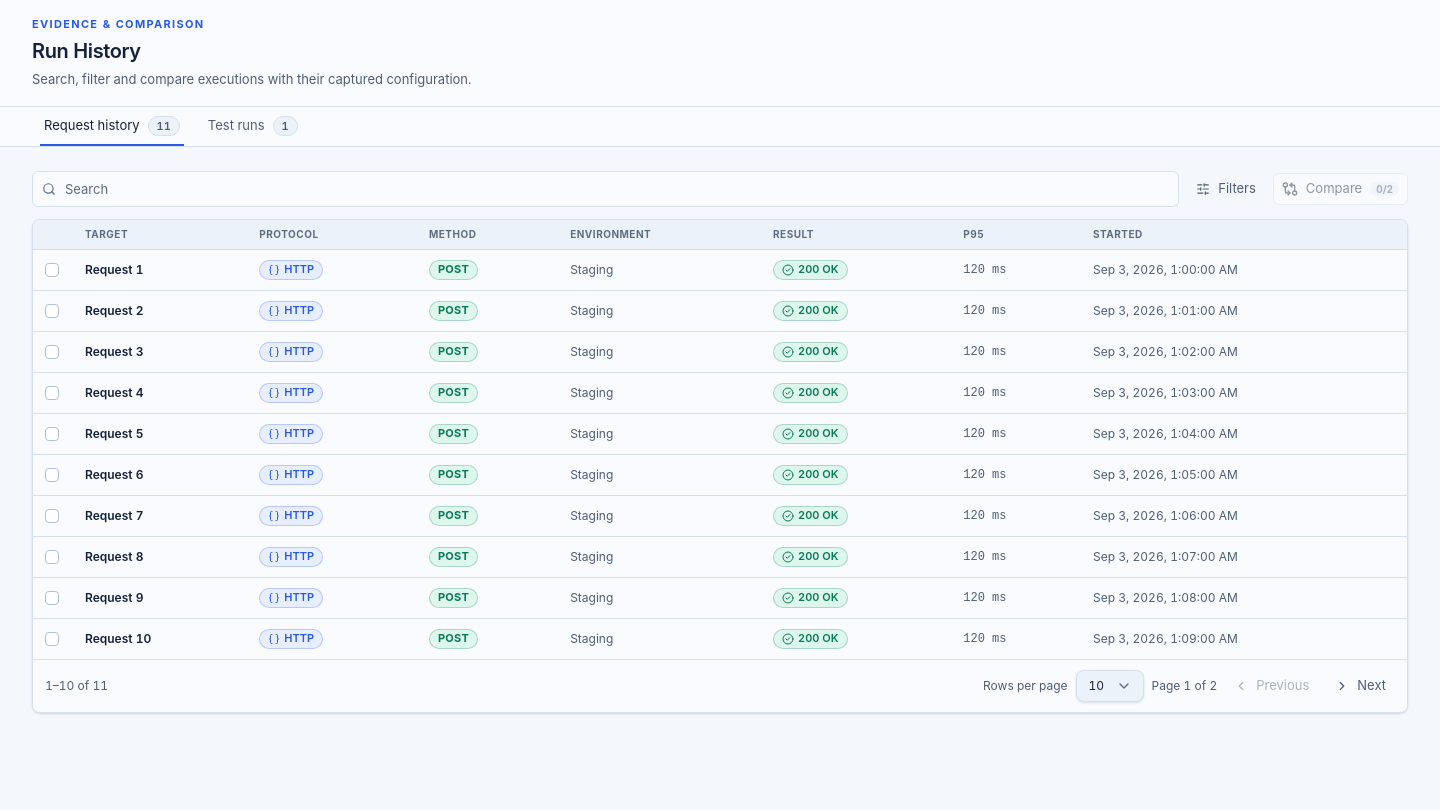
execution history › paginates the evidence table
Expected: the text "1–10 of 11" is shown, [45,678,108,694]
Expected: the text "Request 11" is not shown
Click the button "Next". click: (1361, 686)
box: [1326,670,1395,702]
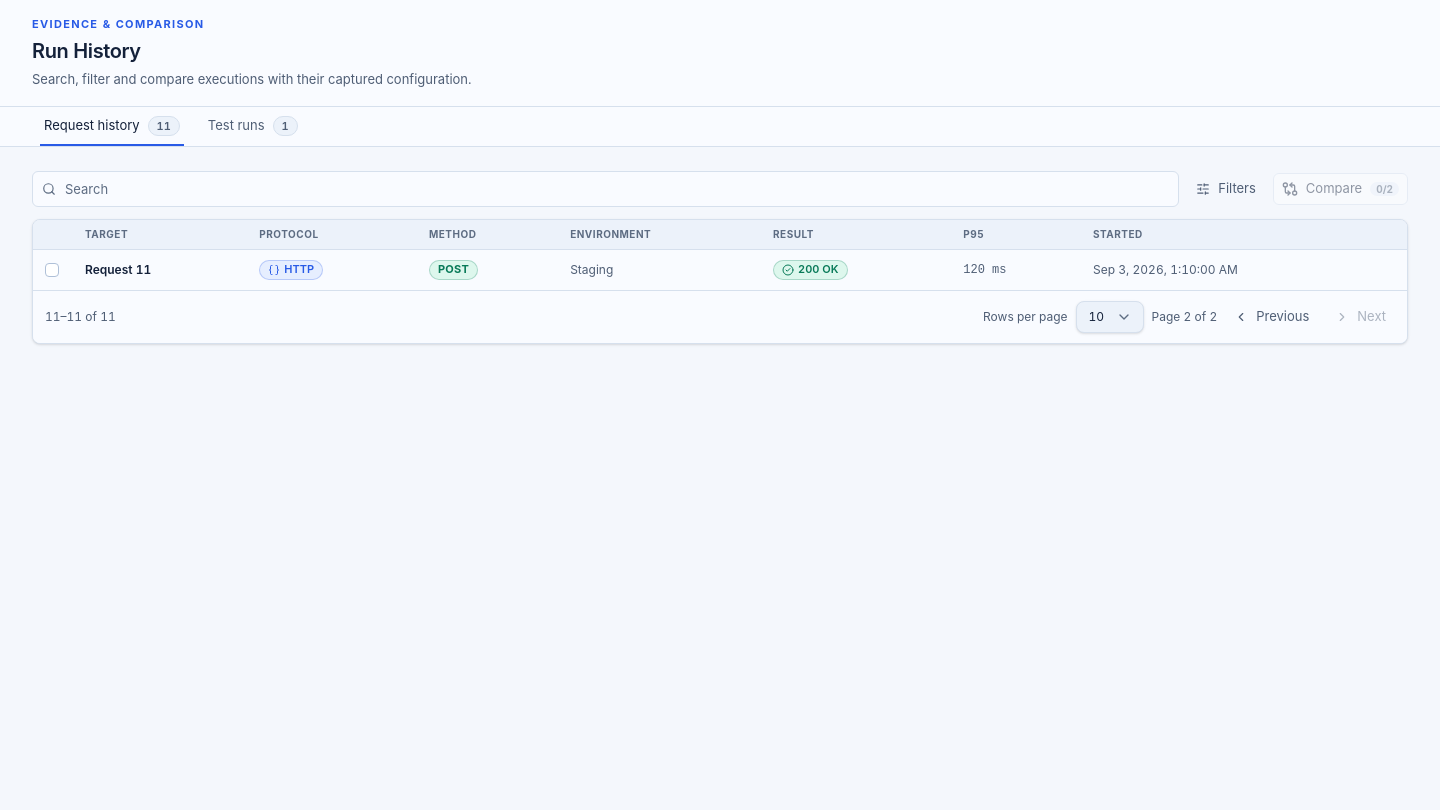
Expected: the dropdown named "Rows per page" reads "10", [1076,301,1144,333]
Expected: the text "11–11 of 11" is shown, [45,309,116,325]
Expected: the text "Request 11" is shown, [85,262,151,277]
